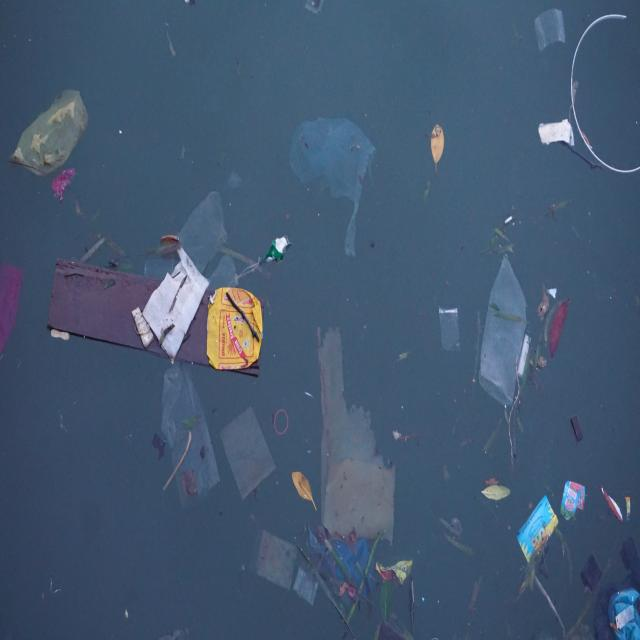Bungkus Makanan: (206, 279, 264, 380)
Kantong Plastik: (162, 360, 225, 510), (290, 110, 378, 215), (12, 85, 94, 193), (479, 251, 528, 412), (302, 521, 379, 598), (221, 402, 277, 501)
